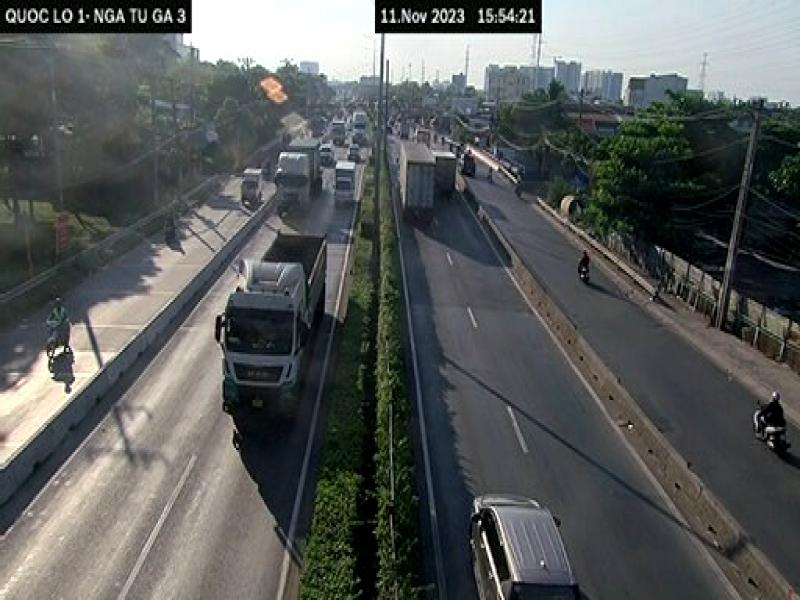truck: (217, 227, 328, 428), (394, 136, 440, 228), (278, 141, 325, 220)
